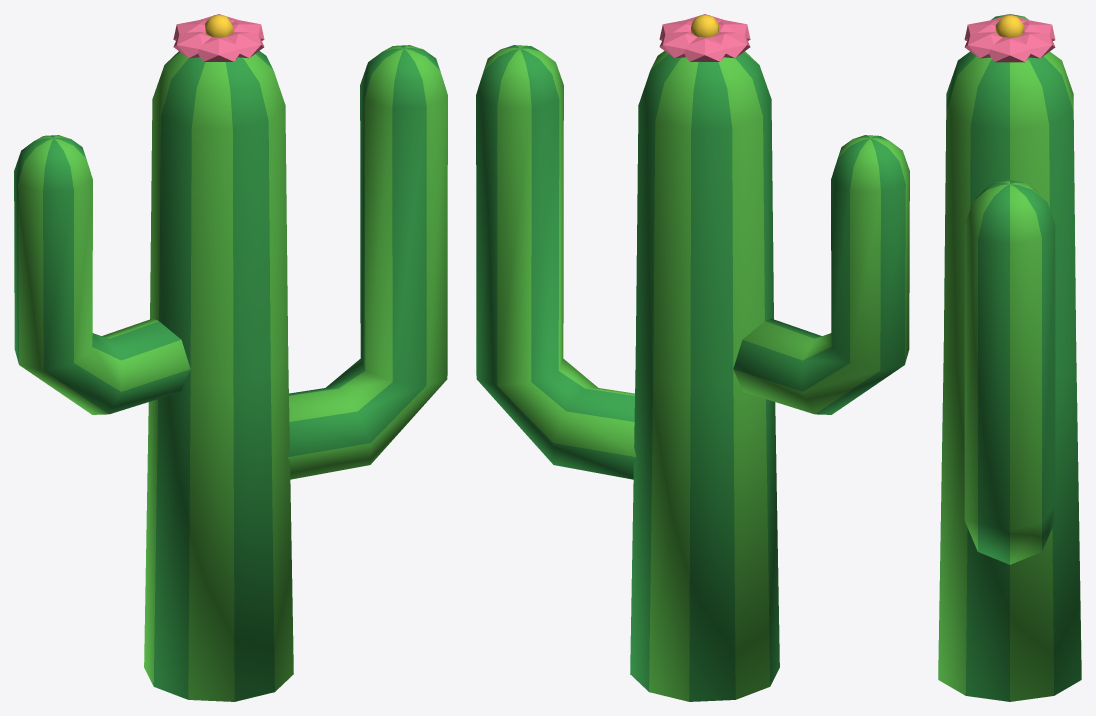
File: cactus_a.glb
3 renders of one model, left to right at view 1: azimuth 30°, elevation 25°; view 2: azimuth 150°, elevation 25°; view 3: azimuth 270°, elevation 25°, orthographic.
Visible parts, largest first — view 1: cactus_a; view 2: cactus_a; view 3: cactus_a.
Part boxes in pixels (bbox=[...]): cactus_a: bbox=[14, 14, 447, 701]; cactus_a: bbox=[476, 14, 909, 701]; cactus_a: bbox=[938, 14, 1081, 701].
Size of the model in its own units: 3.24 by 4.77 by 0.945.
